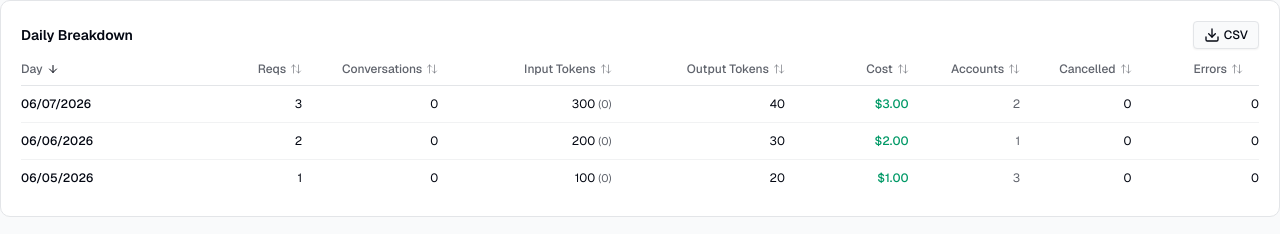
Scenario: DailyDetailTable › shows visible sort icons for active and inactive sortable headers
Expected: the icon with test id "sort-icon-desc" is shown, [47,63,59,75]
Expected: the 1st icon with test id "sort-icon-none" is shown, [290,63,302,75]
Click the button "Reqs" at (248, 69), box [194,61,302,77]
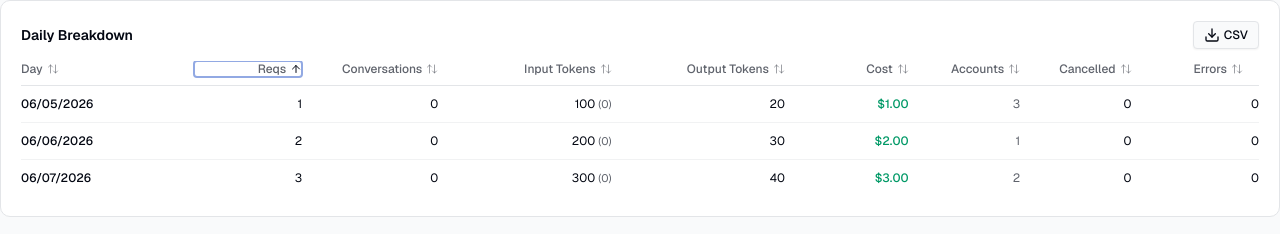
Expected: the 1st icon with test id "sort-icon-none" is shown, [47,63,59,75]
Expected: the icon with test id "sort-icon-asc" is shown, [290,63,302,75]
